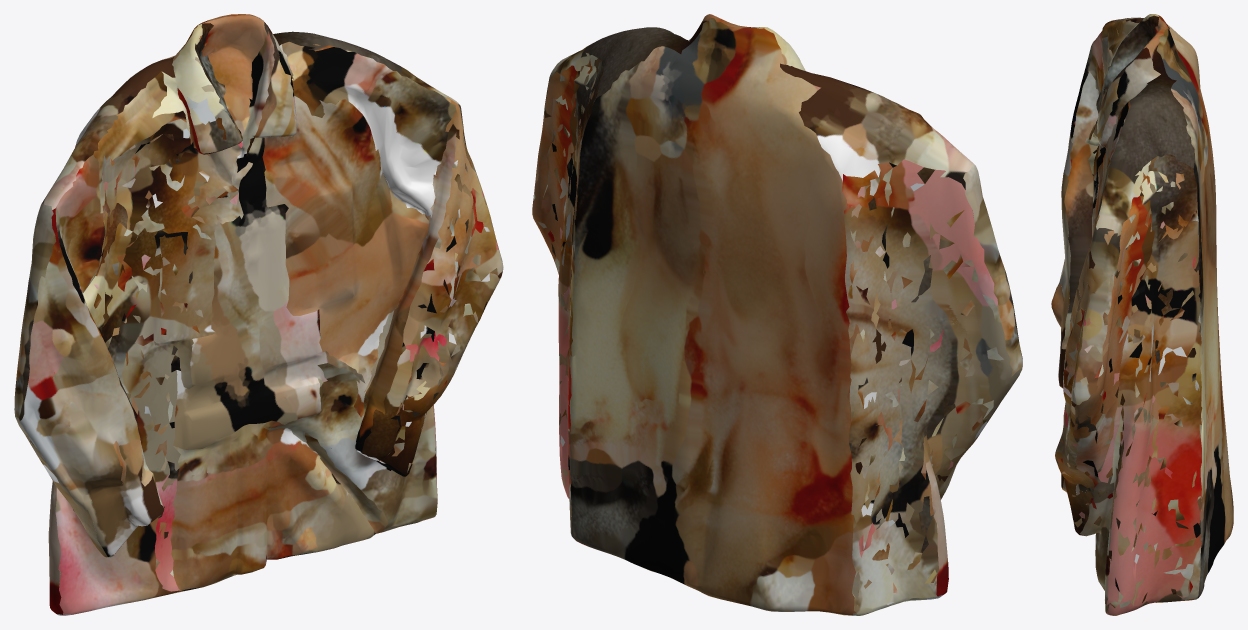
3 views of the same model, side by side, from view 1: azimuth 30°, elevation 25°; view 2: azimuth 150°, elevation 25°; view 3: azimuth 270°, elevation 25° (orthographic). The views are drawn at different scales.
Visible parts, largest first — view 1: world.005; view 2: world.005; view 3: world.005.
Part boxes in pixels (box(x1,y1,x2,y2)): world.005: box(14, 14, 503, 615); world.005: box(532, 14, 1022, 615); world.005: box(1051, 14, 1233, 615).
Bounding box in the file's own units: 187 × 200 × 64.
Materials: 1 (1 with a texture image).
